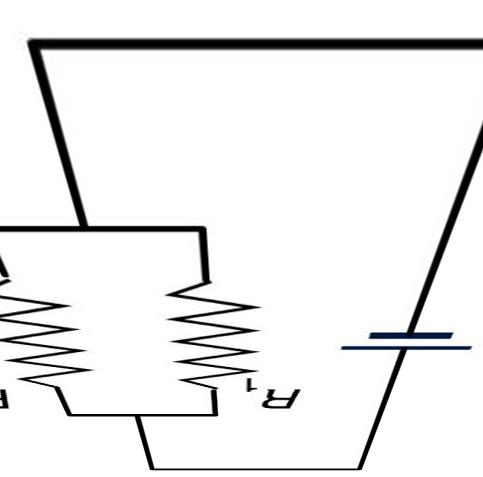resistor: (172, 264, 260, 402), (0, 274, 87, 380)
